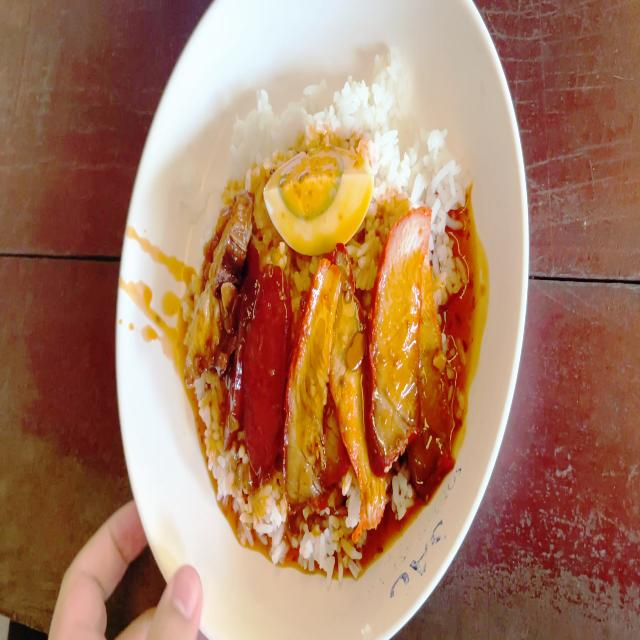boiled_egg: (270, 146, 380, 252)
chainese_sausage: (241, 271, 291, 473)
crispy_pork: (188, 191, 252, 374)
red_pork: (296, 269, 375, 525), (369, 202, 435, 472)
red_pork_and_crispy_pork: (196, 70, 462, 530)
rice: (314, 68, 409, 147), (232, 86, 299, 179), (378, 135, 460, 200)
